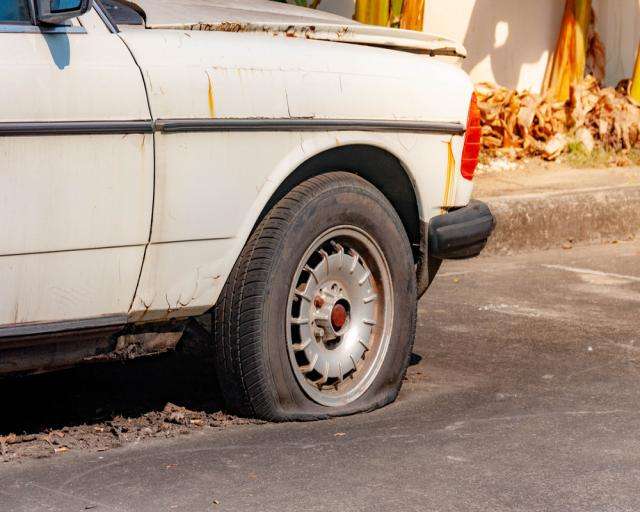tire flat: (213, 161, 420, 426)
